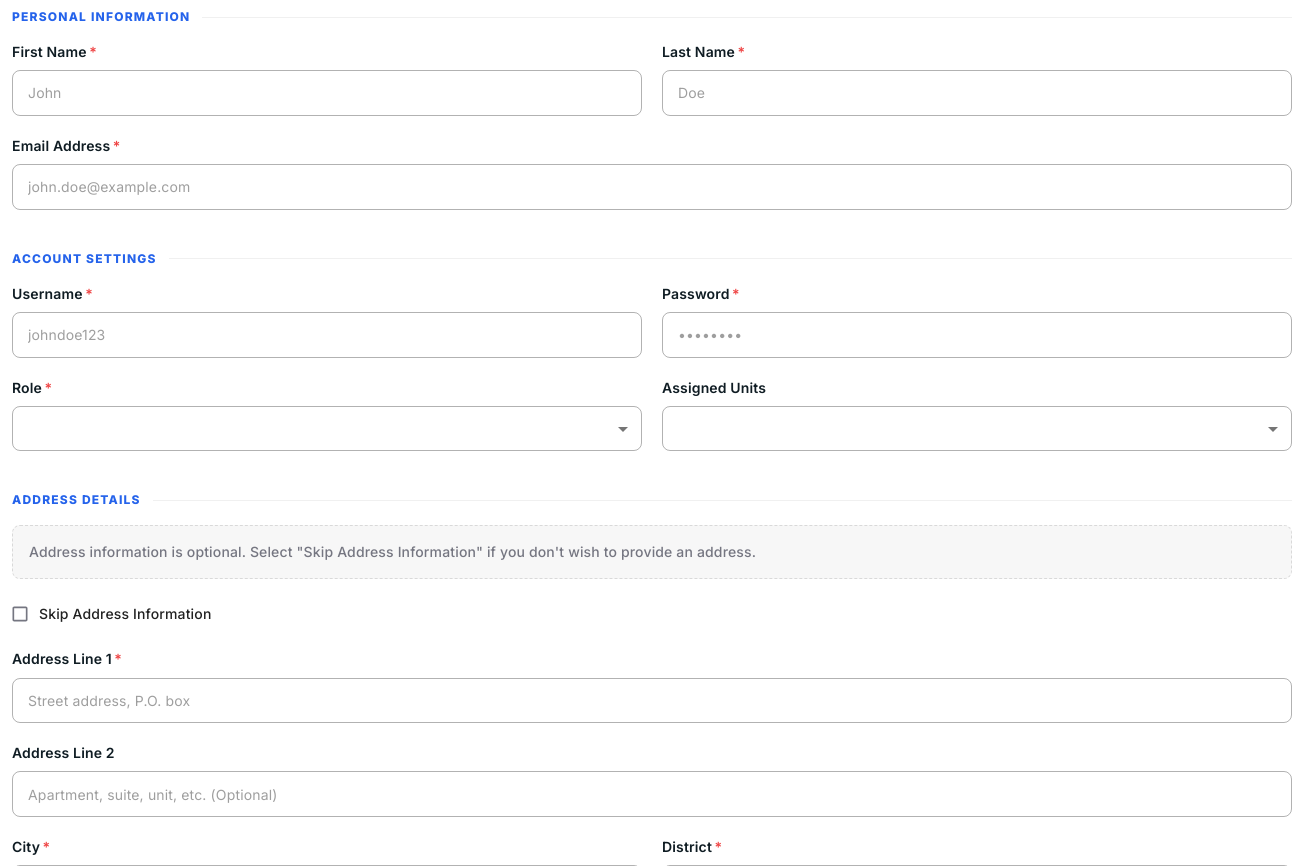
Test: UserForm › hides assigned units field when System Admin role is selected
Expected: the text "Assigned Units" is shown, [662, 378, 766, 396]
# Change role to SYSTEM_ADMIN
Press the mouse on the dropdown named "Role" below "Role": (327, 429) [24, 406, 630, 451]
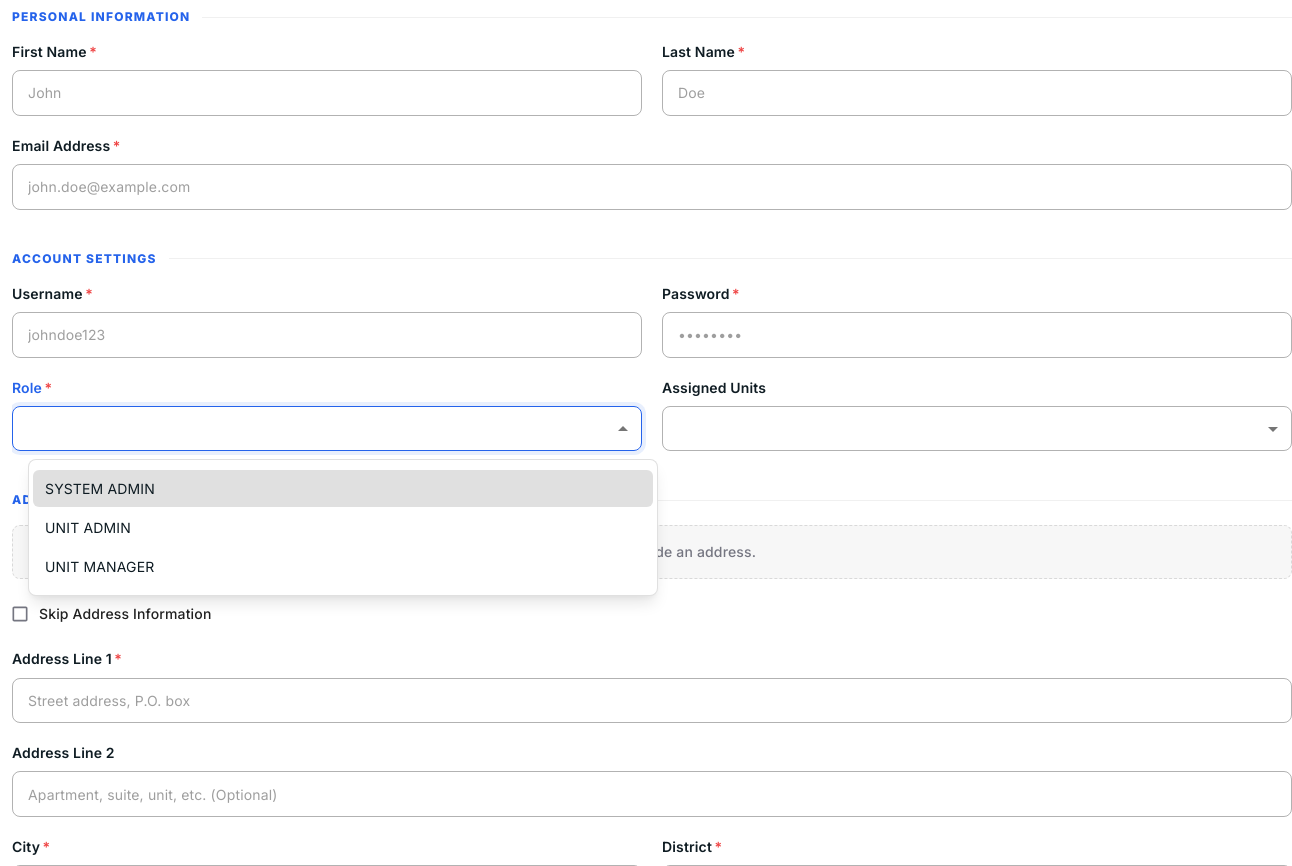
Click the option "SYSTEM ADMIN": click(100, 488) [33, 470, 653, 507]
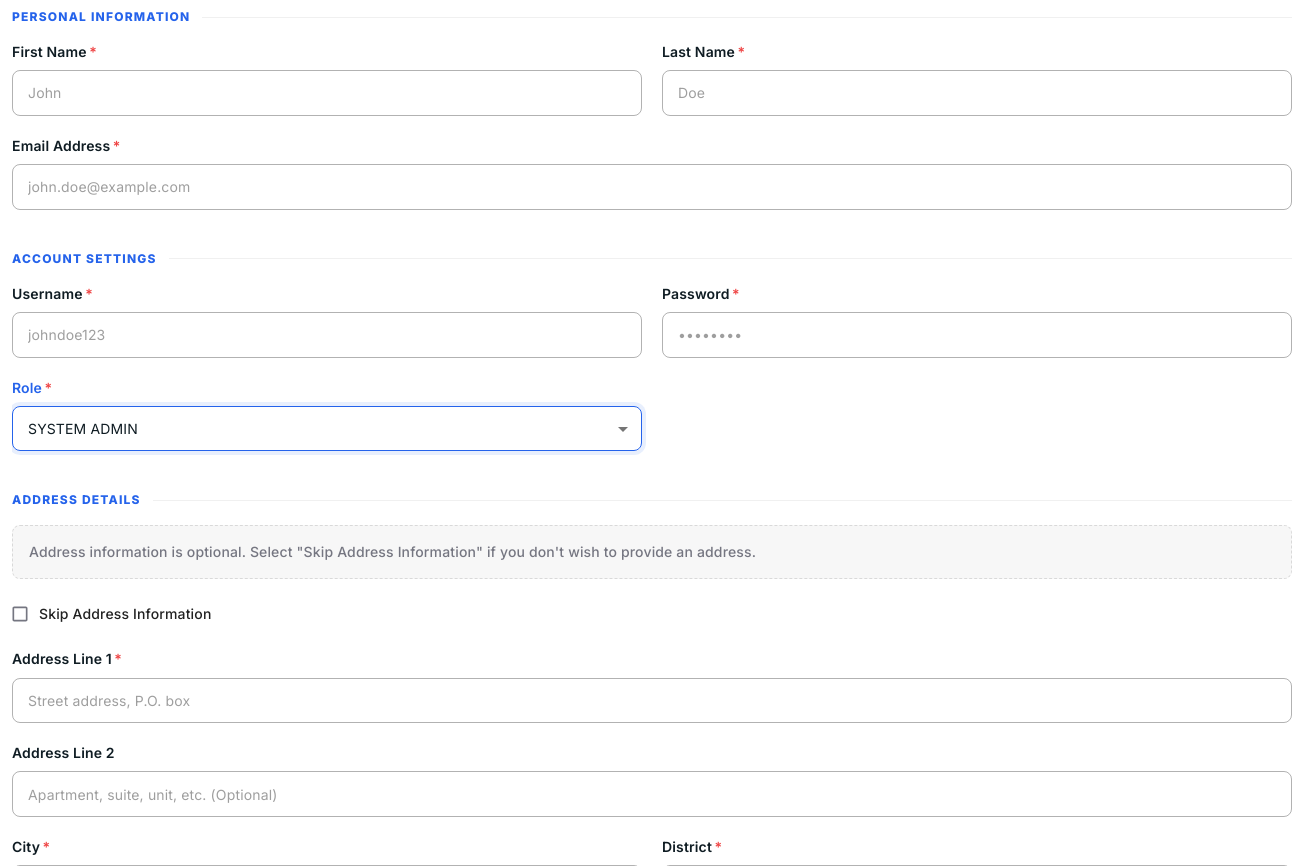
Expected: the text "Assigned Units" is gone
